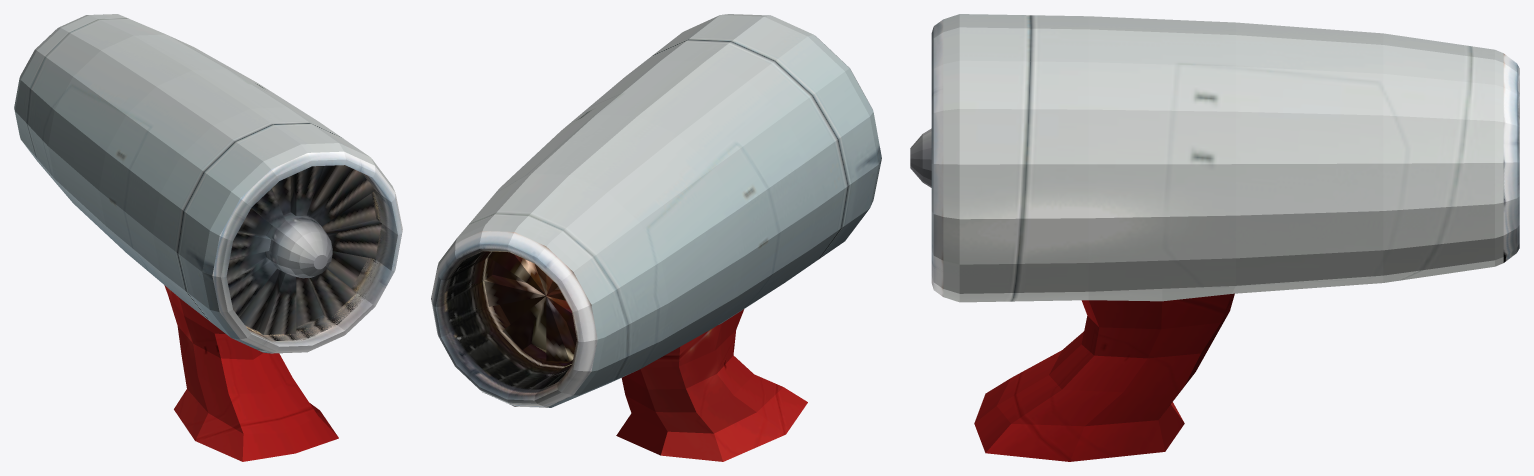
Rendered from Engine1_1.fbx.
3 views of the same model, side by side, from view 1: azimuth 30°, elevation 25°; view 2: azimuth 150°, elevation 25°; view 3: azimuth 270°, elevation 25° (orthographic). The views are drawn at different scales.
Parts seen in each view (by area): view 1: Cylinder; view 2: Cylinder; view 3: Cylinder.
Part boxes in pixels (x1,y1,x2,y2): Cylinder: (14,14,402,461); Cylinder: (431,14,881,461); Cylinder: (910,14,1519,461).
Bounding box in the file's own units: 393 × 595 × 830.
Materials: 1 (1 with a texture image).
